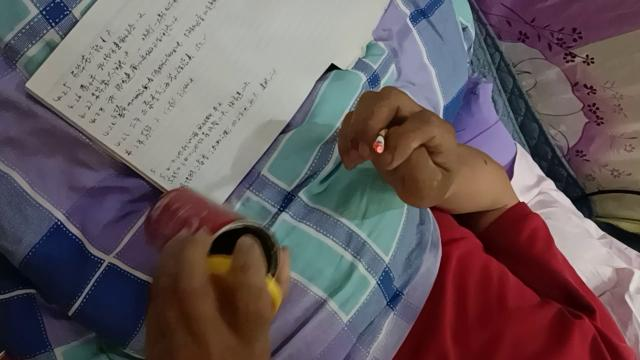Cigarette: (373, 128, 389, 154)
